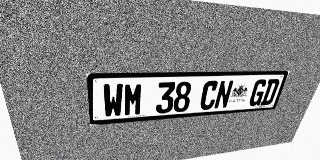3: (155, 82, 176, 114)
8: (172, 81, 193, 112)
C: (199, 81, 219, 110)
D: (260, 79, 281, 105)
G: (247, 79, 268, 106)
M: (124, 83, 143, 116)
N: (213, 80, 234, 109)
W: (102, 83, 123, 118)
